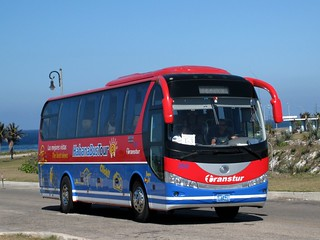bus: (37, 66, 270, 221)
